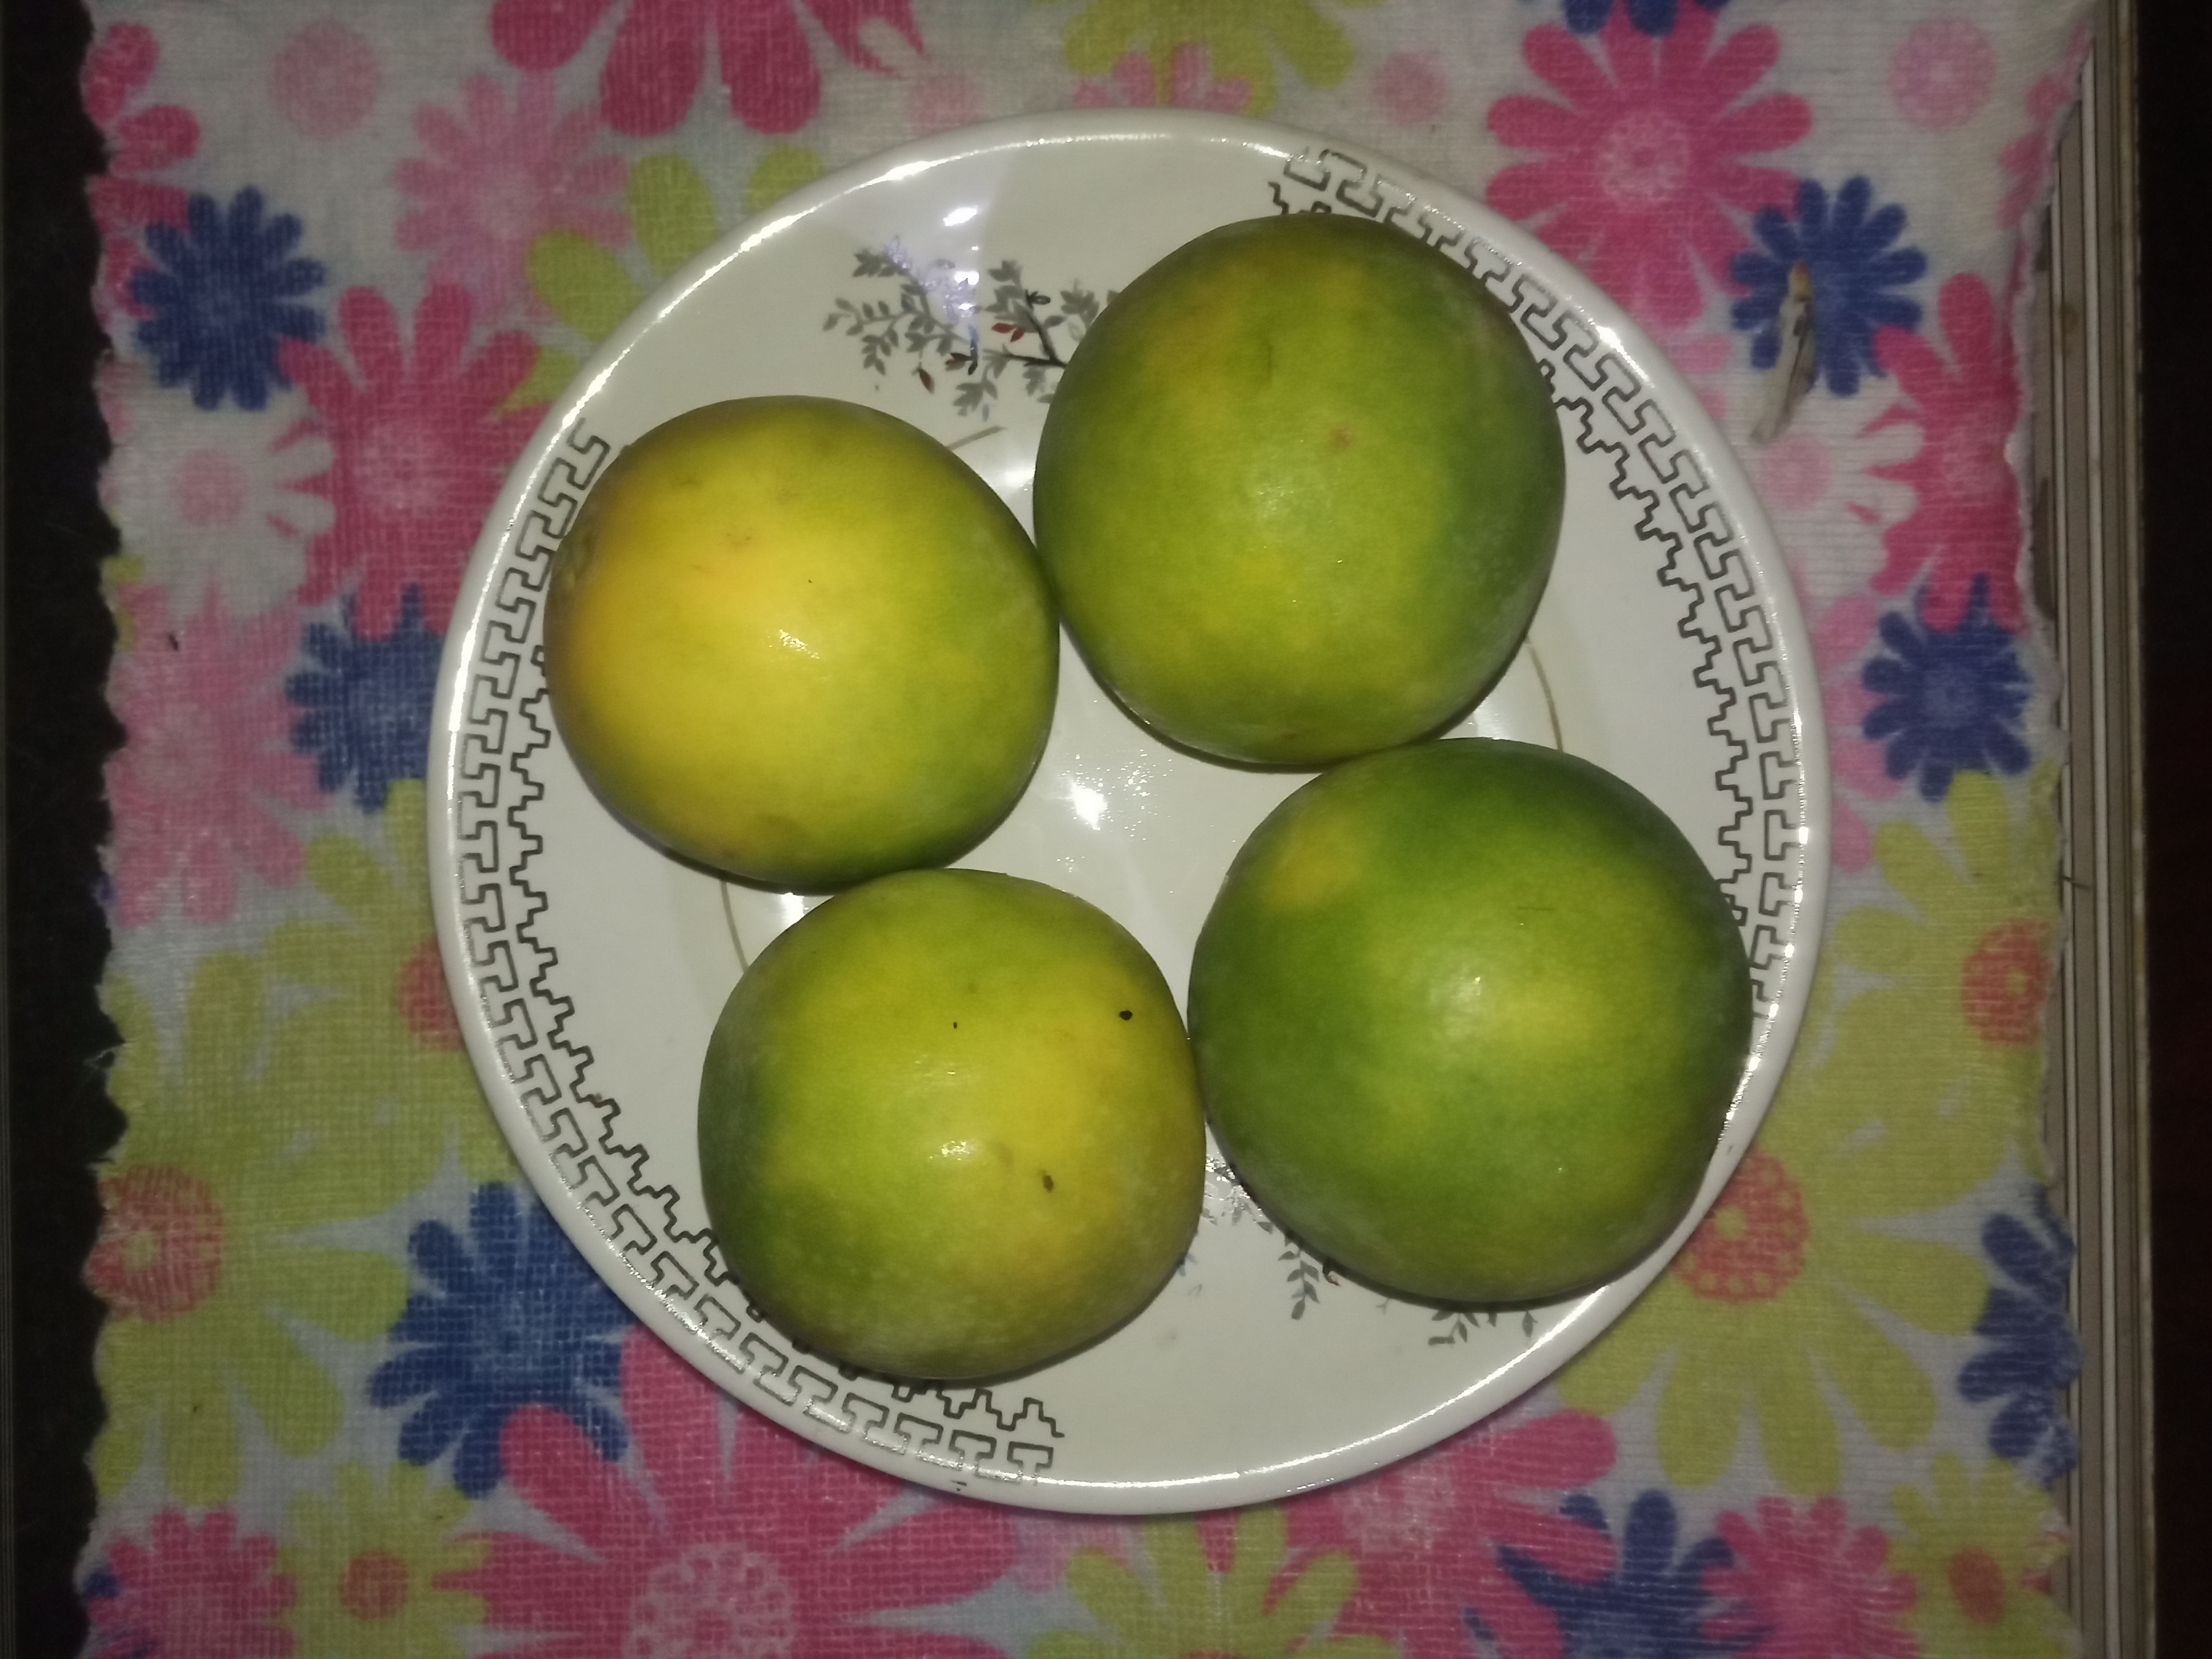food: (538, 202, 1761, 1392)
